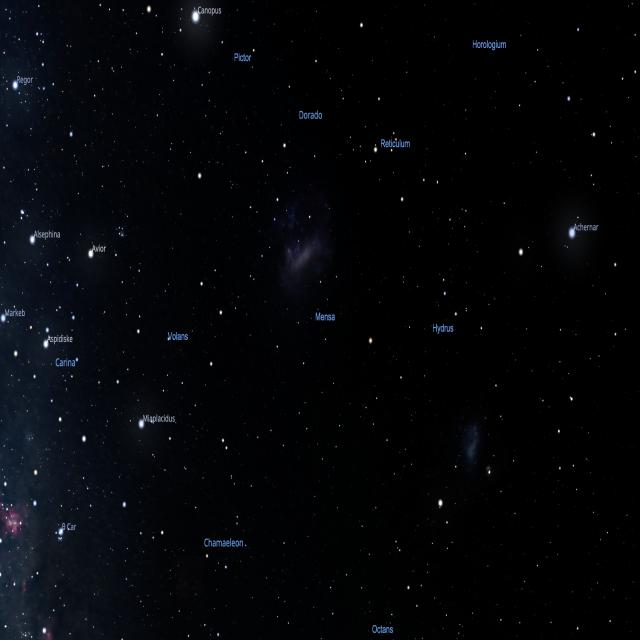Mensa: (302, 276, 325, 370)
